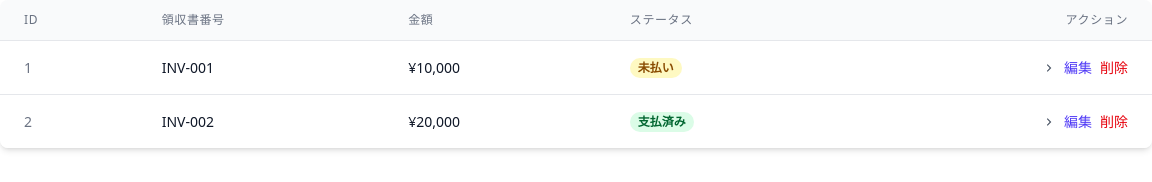
InvoiceList Component › should enter edit mode when edit button is clicked
// Find and click the edit button for the first invoice
Click the button "編集" in the row of "INV-001" at (1078, 68), box top-left (1064, 58), bottom-right (1092, 78)
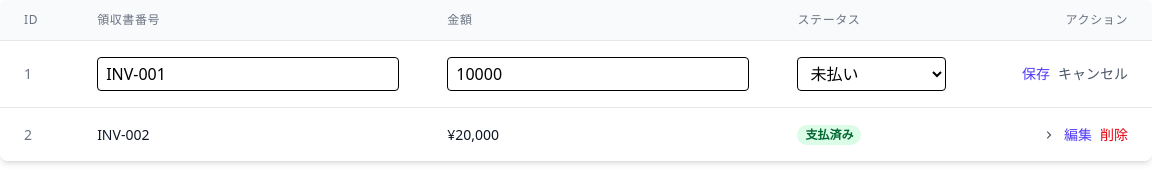
Expected: the field showing "INV-001" is shown, top-left (97, 57), bottom-right (399, 91)
Expected: the number field showing "10000" is shown, top-left (447, 57), bottom-right (750, 91)
Expected: the dropdown named "ステータス" is shown, top-left (798, 57), bottom-right (946, 91)
